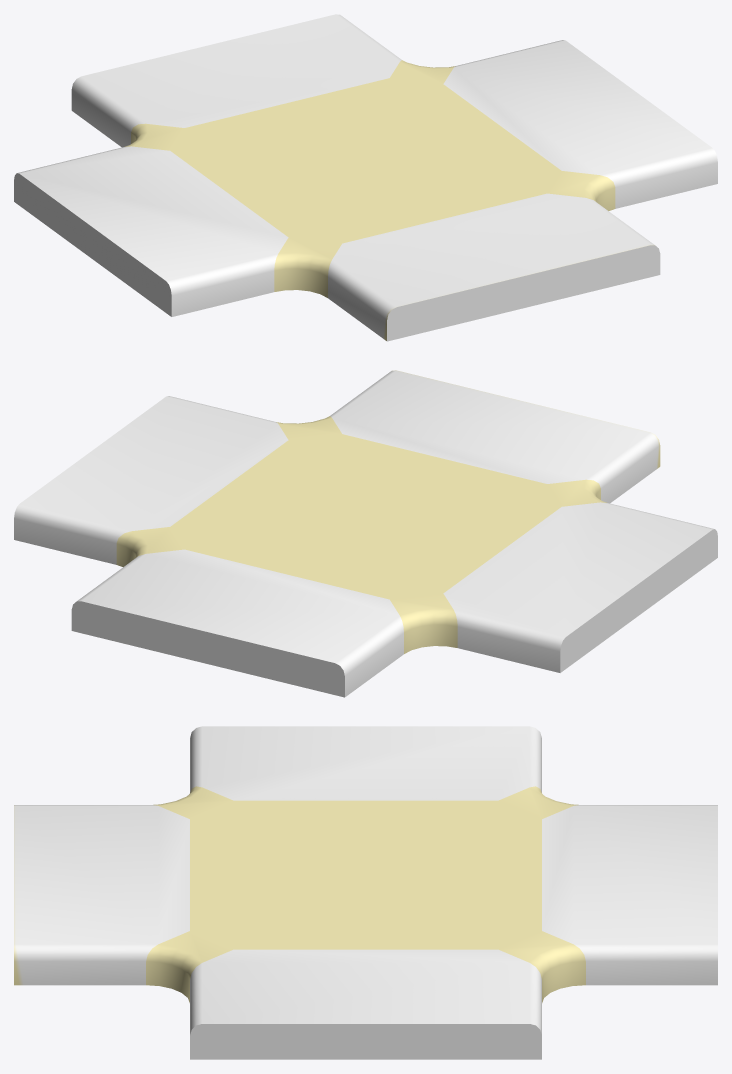
The model's file is IntersectionBig_yellow.fbx.
3 renders of one model, top to bottom at view 1: azimuth 30°, elevation 25°; view 2: azimuth 150°, elevation 25°; view 3: azimuth 270°, elevation 25°, orthographic. The views are drawn at different scales.
Parts seen in each view (by area): view 1: IntersectionBig_yellow; view 2: IntersectionBig_yellow; view 3: IntersectionBig_yellow.
Part boxes in pixels (<box>): IntersectionBig_yellow: <box>14,14,717,341</box>; IntersectionBig_yellow: <box>14,370,717,697</box>; IntersectionBig_yellow: <box>14,726,717,1059</box>.
Bounding box in the file's own units: 600 × 33.61 × 600.
Materials: 1 (1 with a texture image).
